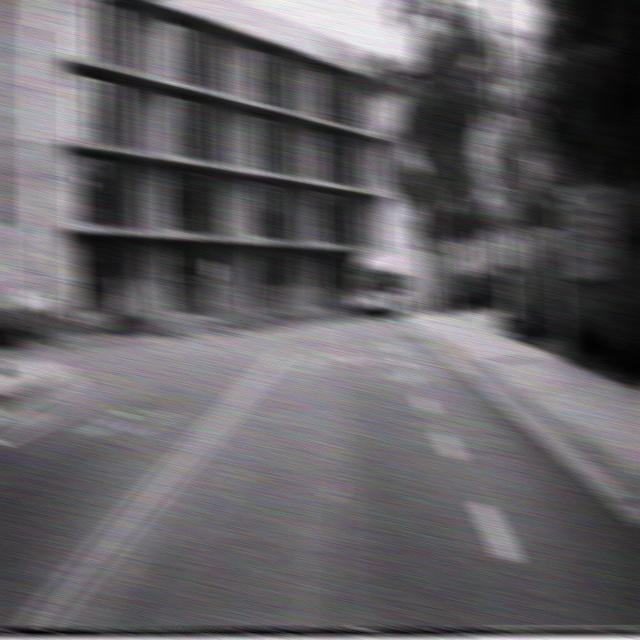stop_sign: (486, 185, 517, 232)
